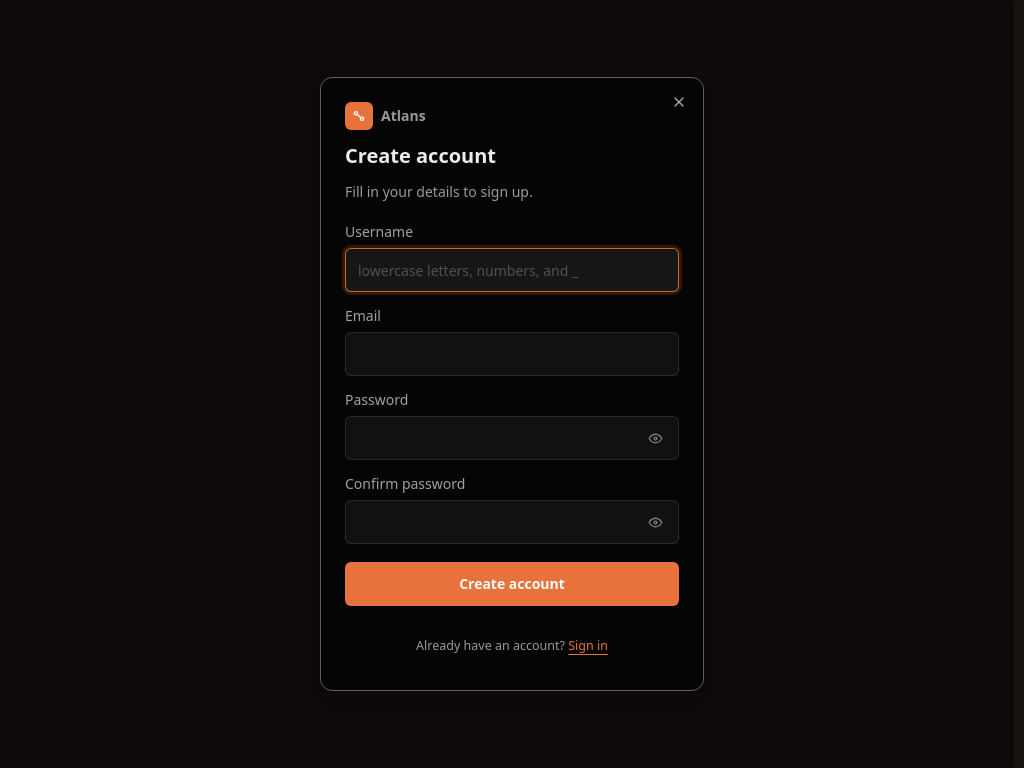
Test: entrada em en › cadastro: o 429 sem mensagem do servidor cai no texto do idioma
In the field labelled "Username": point(512, 270) left=345, top=248, right=679, bottom=292, type "fulana"
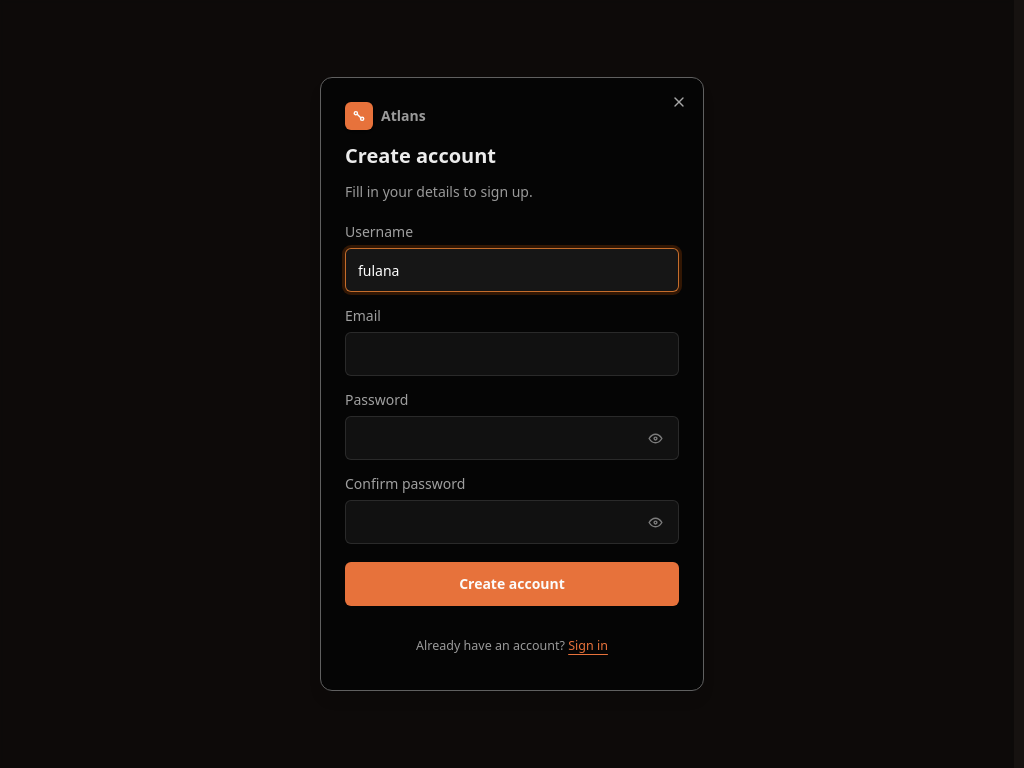
In the field labelled "Email": point(512, 354) left=345, top=332, right=679, bottom=376, type "fulana@exemplo.com"
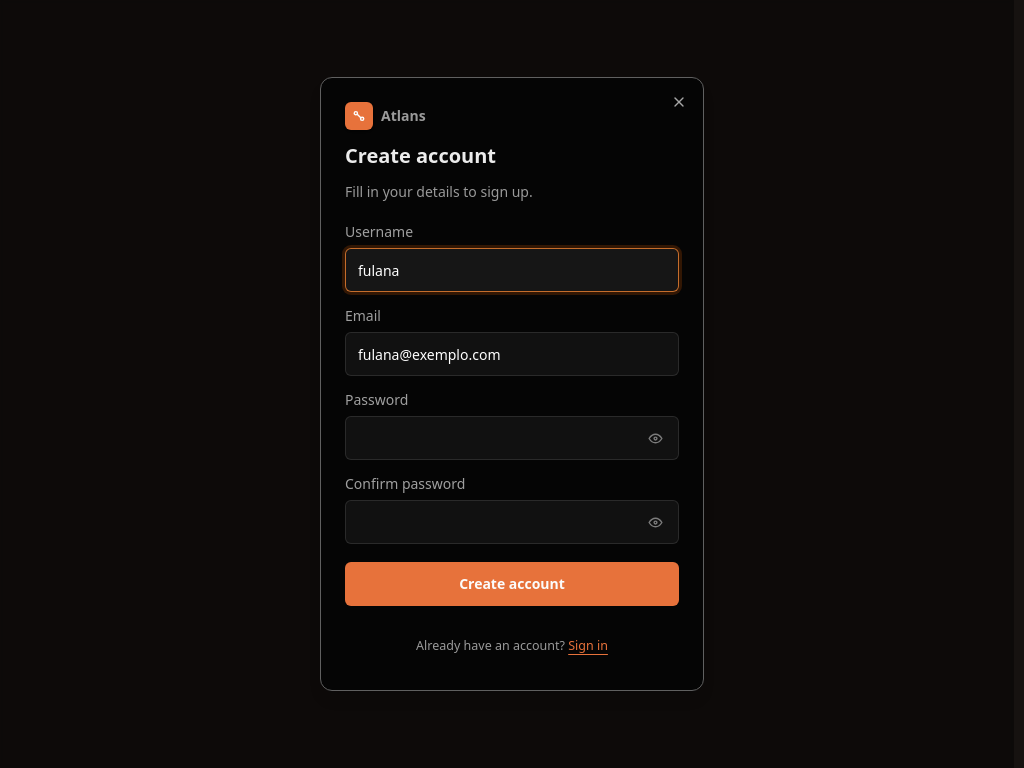
In the password field labelled "Password": point(512, 438) left=345, top=416, right=679, bottom=460, type "S3nha-forte"
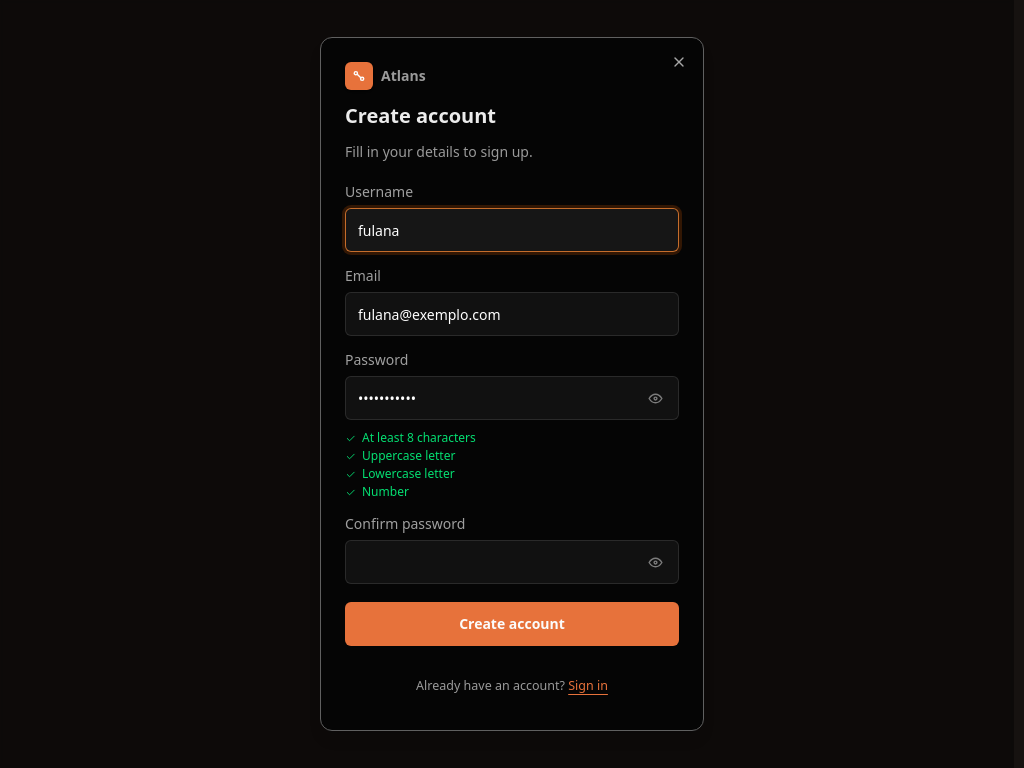
In the password field labelled "Confirm password": point(512, 562) left=345, top=540, right=679, bottom=584, type "S3nha-forte"
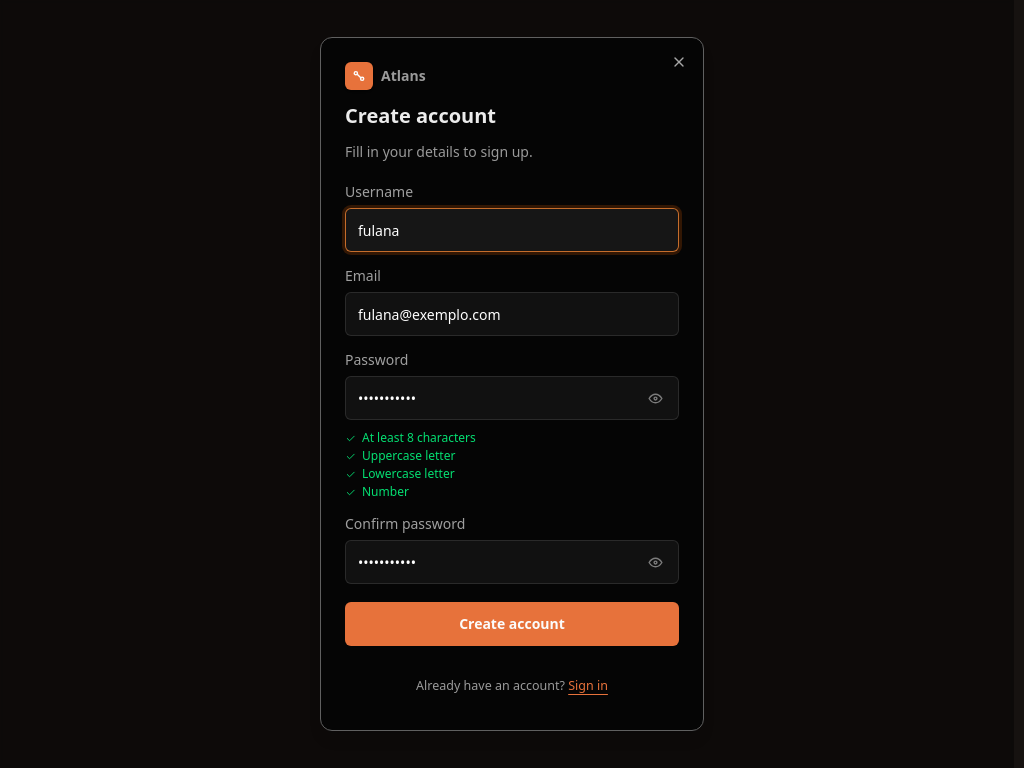
Submit the form named "Confirm password", box left=345, top=182, right=679, bottom=646
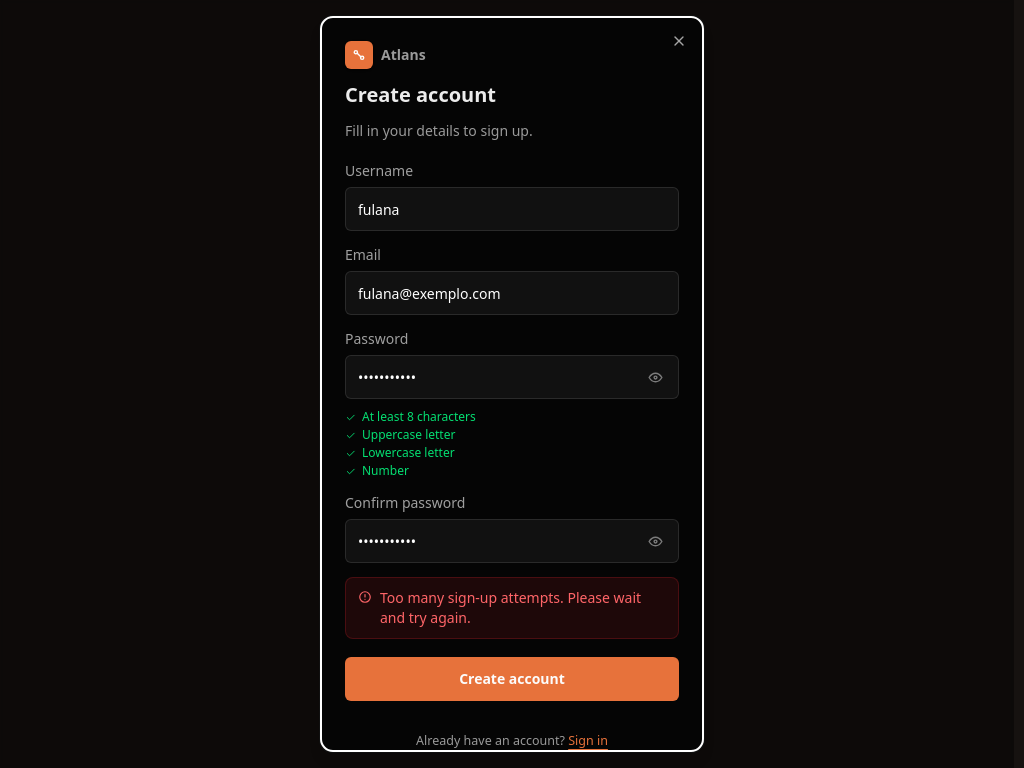
expect the message reads "Too many sign-up attempts. Please wait and try again.": met, box left=380, top=588, right=641, bottom=627
